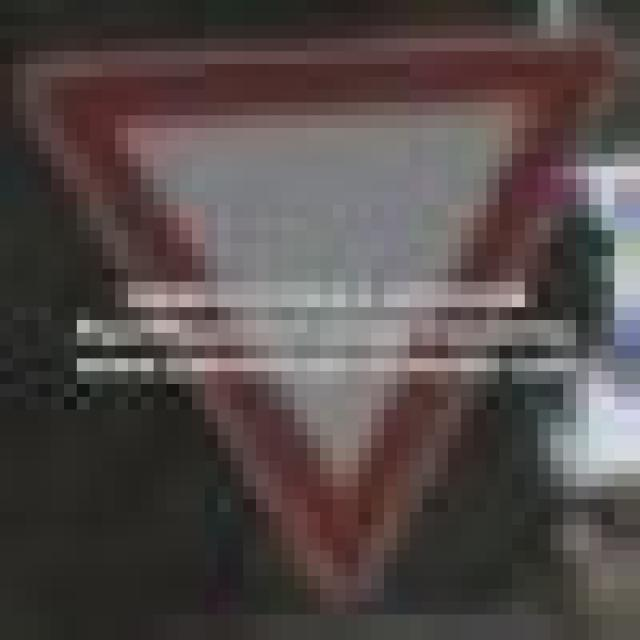gap_in_median: (0, 38, 627, 589)
